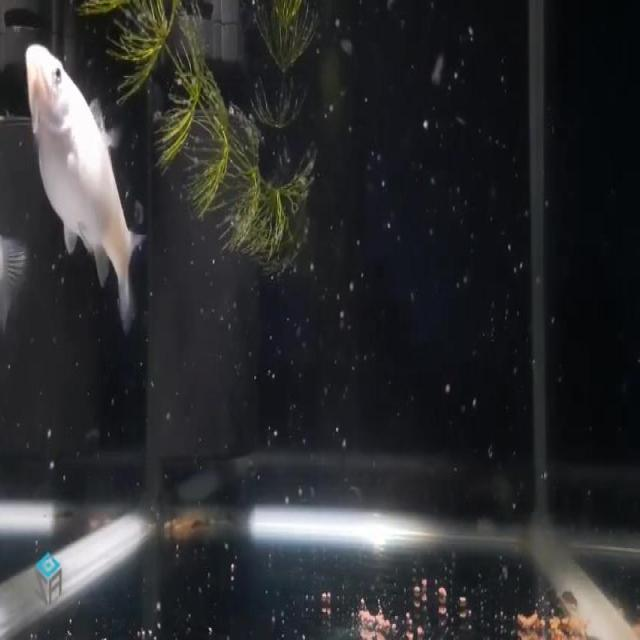PlatyFish: (18, 29, 151, 346)
